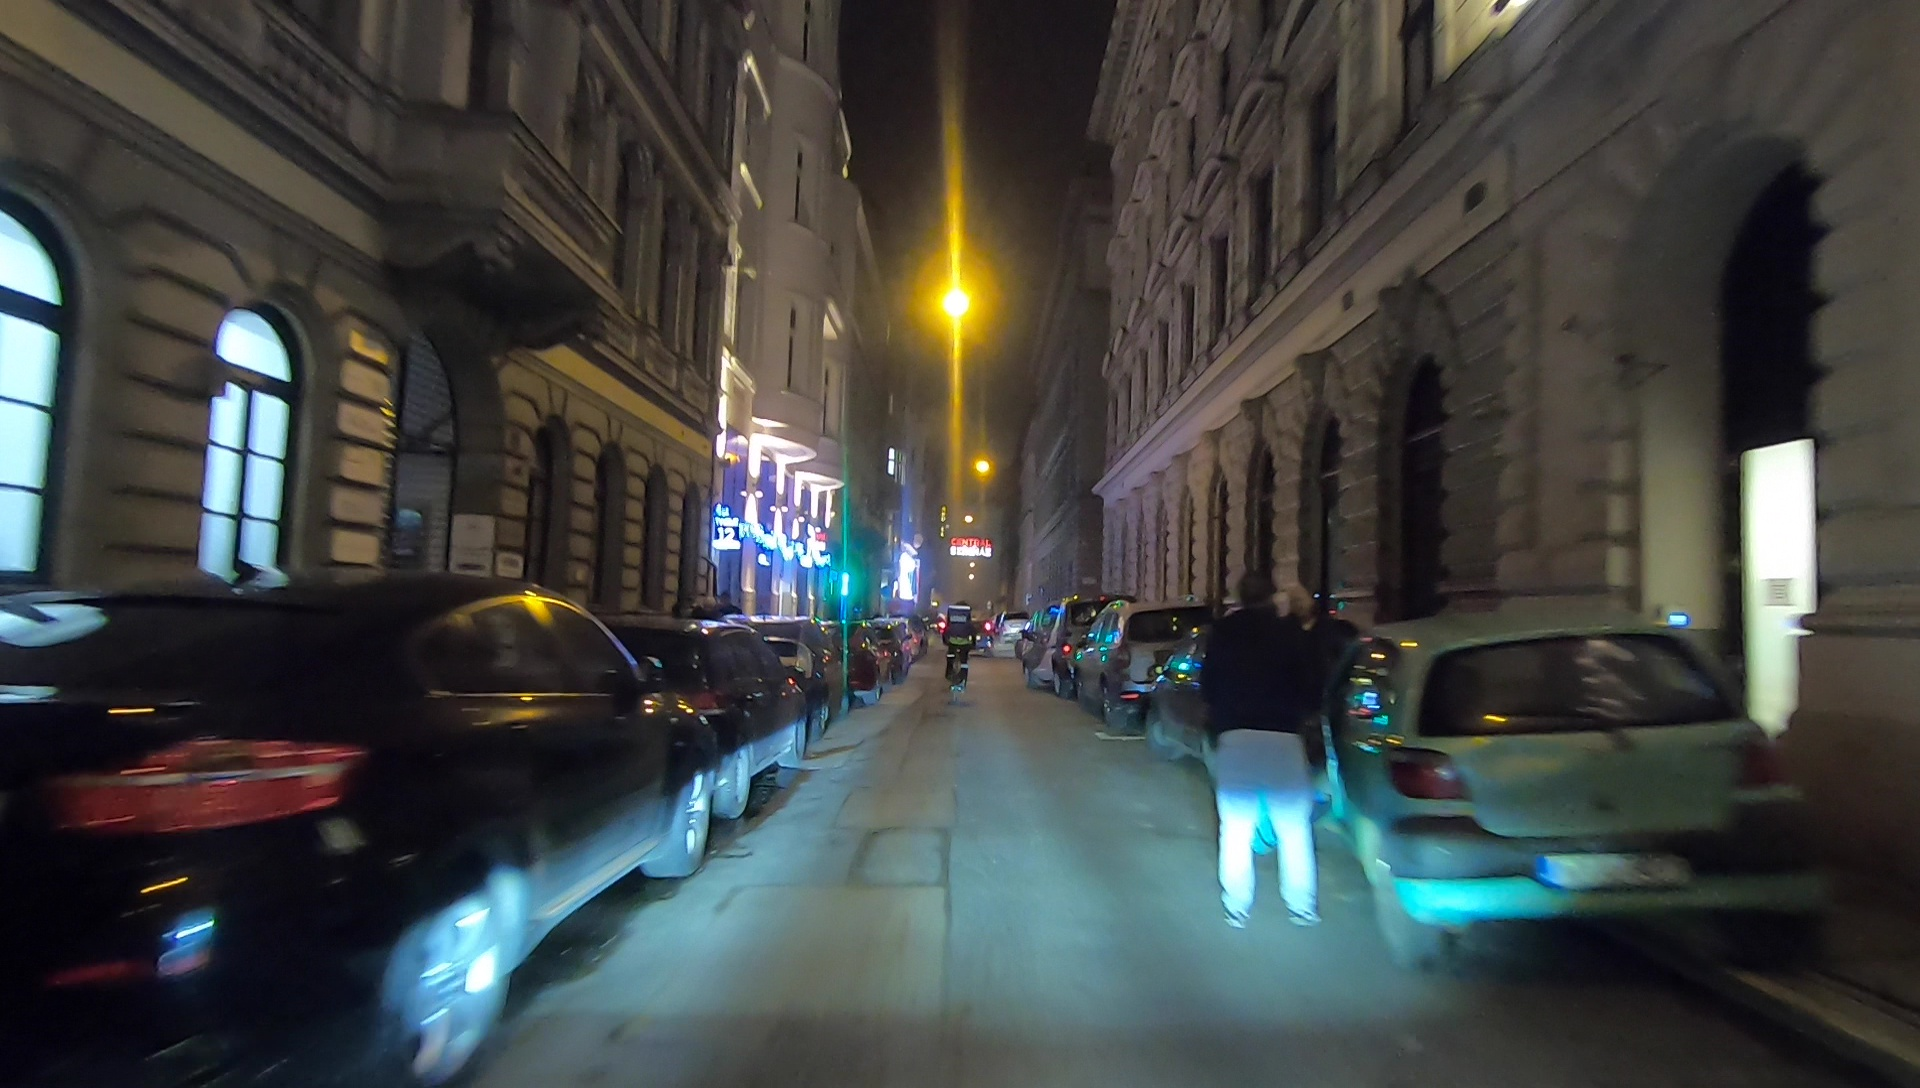person: (1201, 565, 1326, 932)
